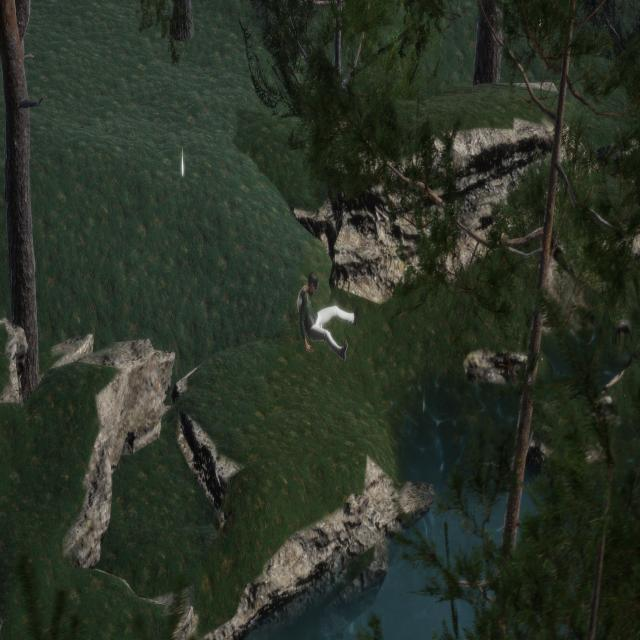Human: (292, 268, 363, 369)
